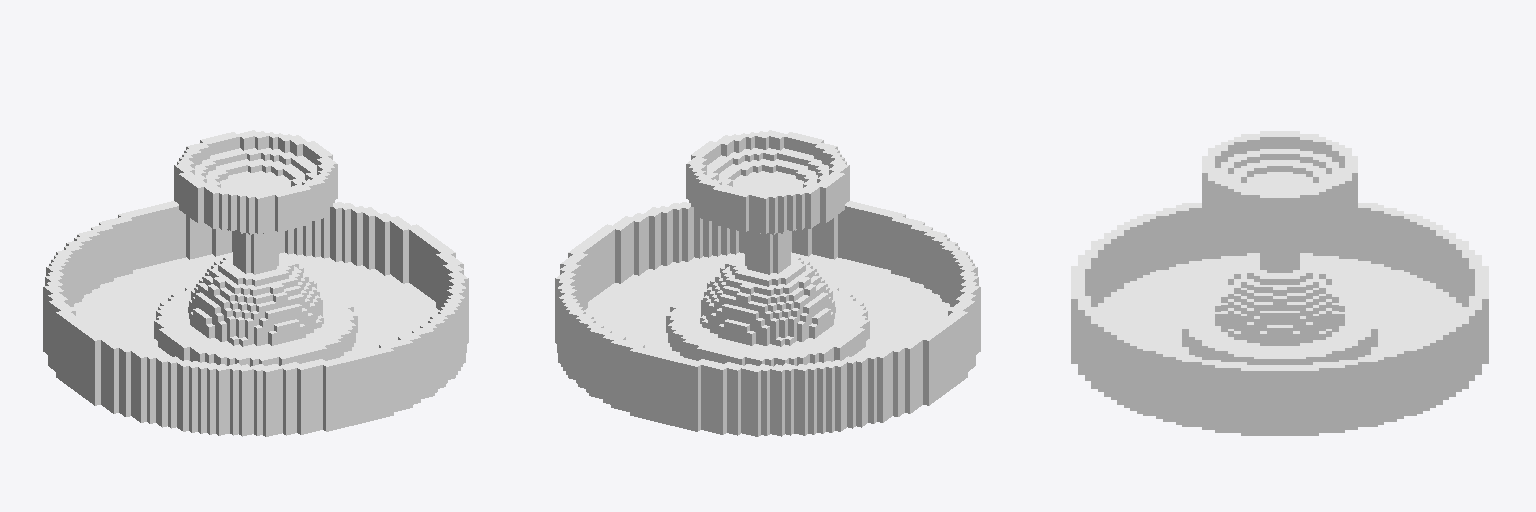
File: fountain.vox-2.obj
3 renders of one model, left to right at view 1: azimuth 30°, elevation 25°; view 2: azimuth 150°, elevation 25°; view 3: azimuth 270°, elevation 25°, orthographic.
Parts seen in each view (by area): view 1: object 1; view 2: object 1; view 3: object 1.
Boxes of the visible parts, box(x1,y1,x2,y2) form: object 1: box(43, 130, 468, 436); object 1: box(555, 130, 980, 436); object 1: box(1071, 131, 1488, 435).
Size of the model in its own units: 6.4 by 3.1 by 6.4.